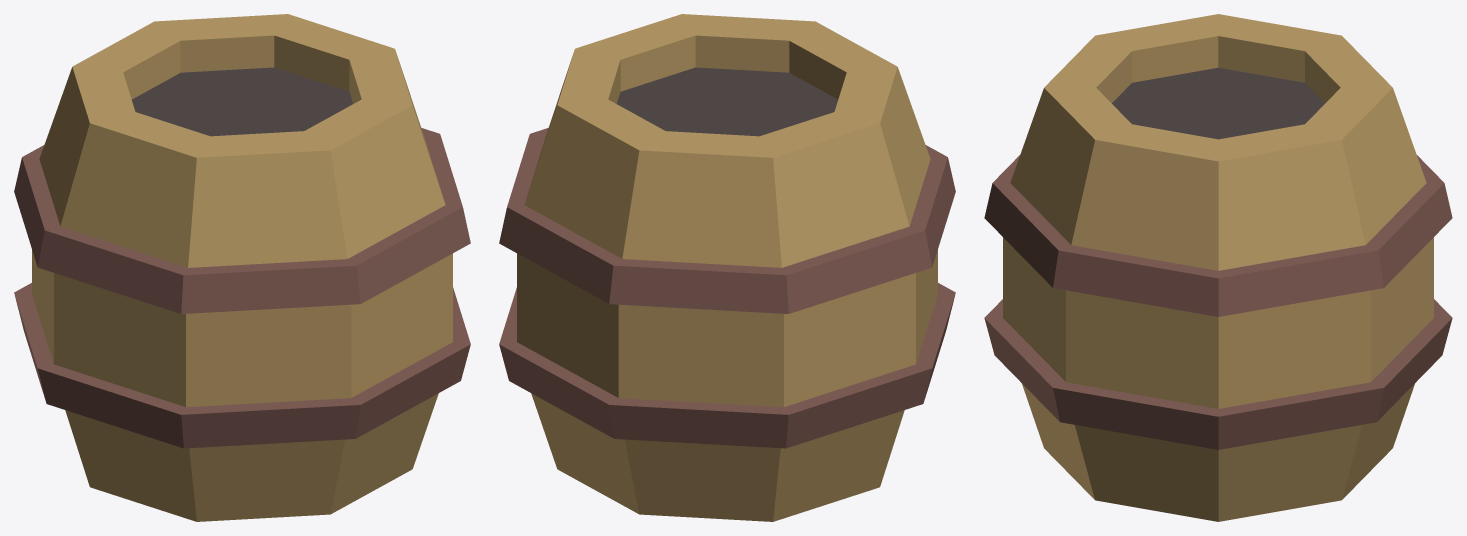
File: Barrel.fbx
3 views of the same model, side by side, from view 1: azimuth 30°, elevation 25°; view 2: azimuth 150°, elevation 25°; view 3: azimuth 270°, elevation 25° (orthographic).
Visible parts, largest first — view 1: pCylinder12; view 2: pCylinder12; view 3: pCylinder12.
Part boxes in pixels (x1,y1,x2,y2): pCylinder12: [14, 14, 470, 521]; pCylinder12: [499, 14, 955, 521]; pCylinder12: [984, 14, 1452, 521].
Size of the model in its own units: 53.68 by 45.61 by 53.68.
